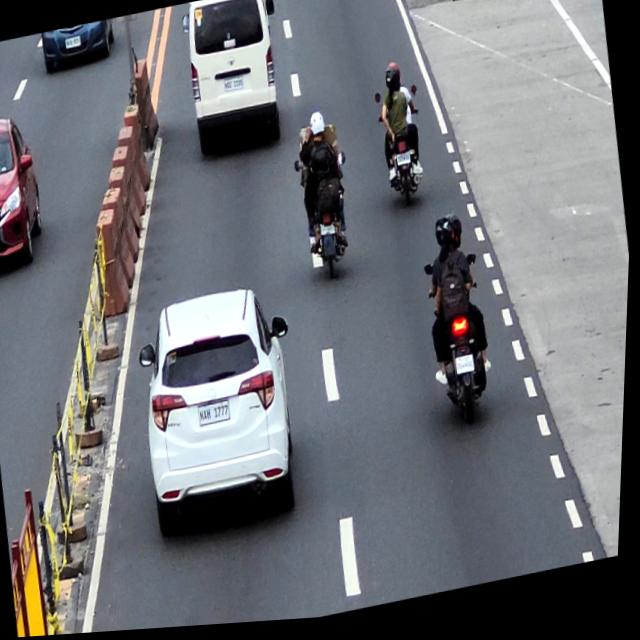Car: (130, 281, 318, 547), (176, 0, 294, 163)
License-Plate: (201, 403, 234, 431), (457, 360, 478, 382), (223, 79, 245, 97), (320, 226, 339, 242), (397, 158, 414, 172)
Motorcycle: (421, 257, 503, 437), (293, 153, 363, 290), (372, 88, 433, 220)
